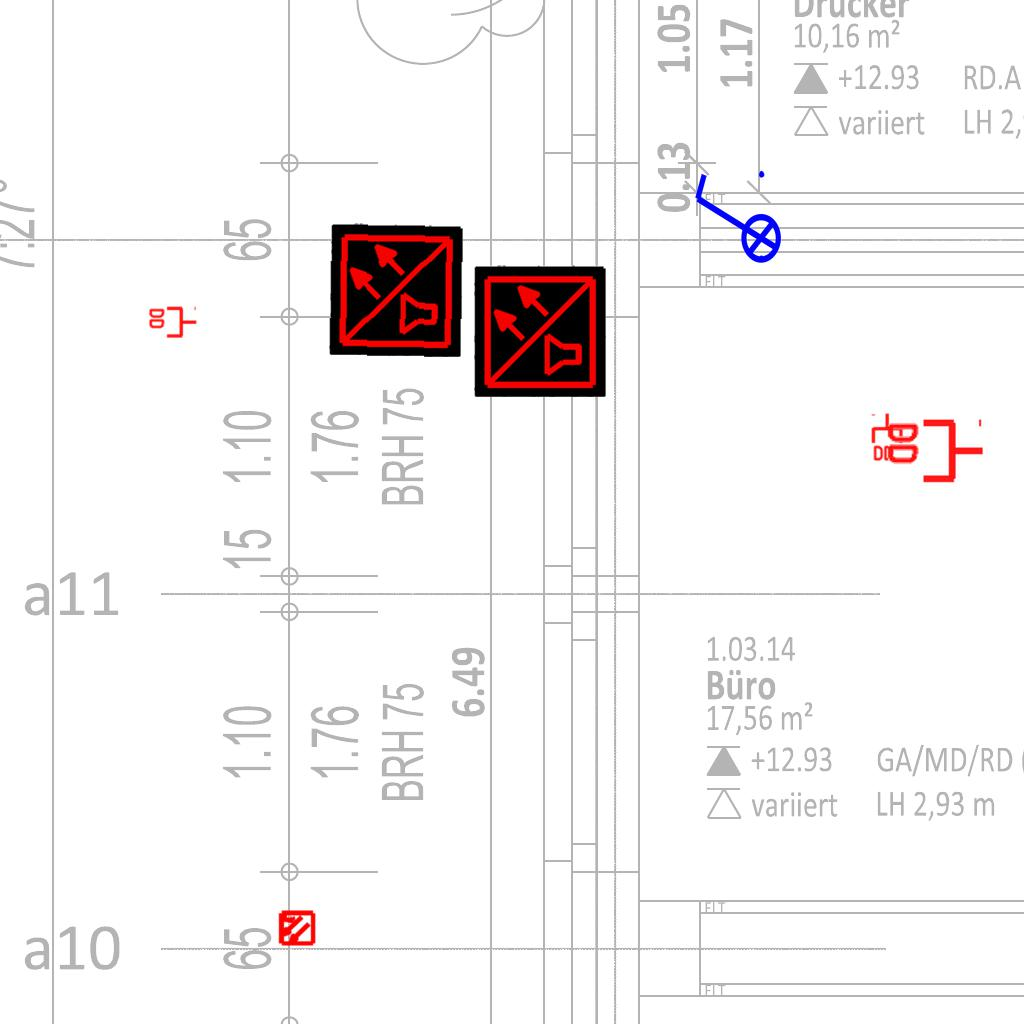Ausschalter_beleuchtet: (687, 165, 783, 277)
Datenanschluss_zweifach: (883, 418, 986, 487), (871, 412, 905, 463), (147, 306, 198, 340)
OKW_Multisensormelder_(Kombination_optischer_Rauch-Kahlenmonoxid_Waerme-Melder): (328, 222, 464, 358), (474, 265, 606, 397)
OT_Multisensormelder_(Kombination_RMO_WMD): (268, 900, 324, 956)
